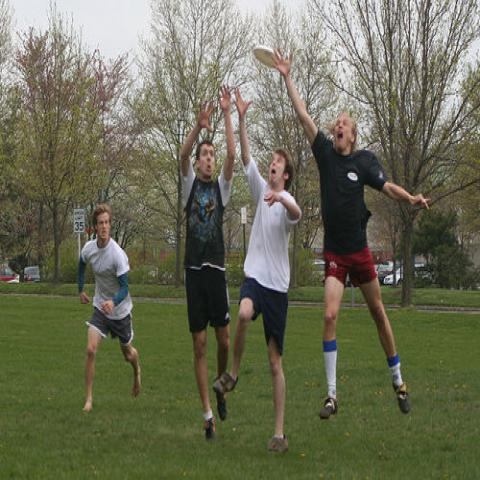car: (381, 263, 426, 286), (20, 266, 41, 284), (0, 266, 20, 283), (377, 265, 389, 285)
